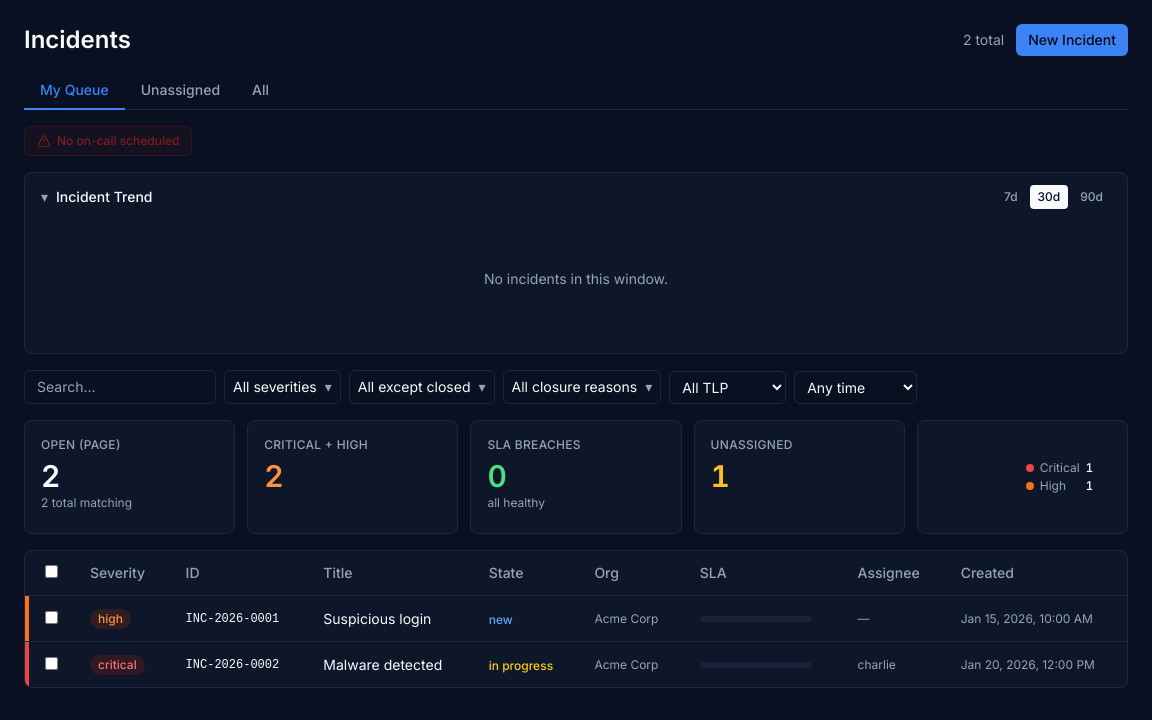
IncidentList › deselecting all checkboxes hides the toolbar
The width and height of the screenshot is (1152, 720).
Click the checkbox named "Select INC-2026-0001".
click(52, 617)  # box [45,610,58,624]
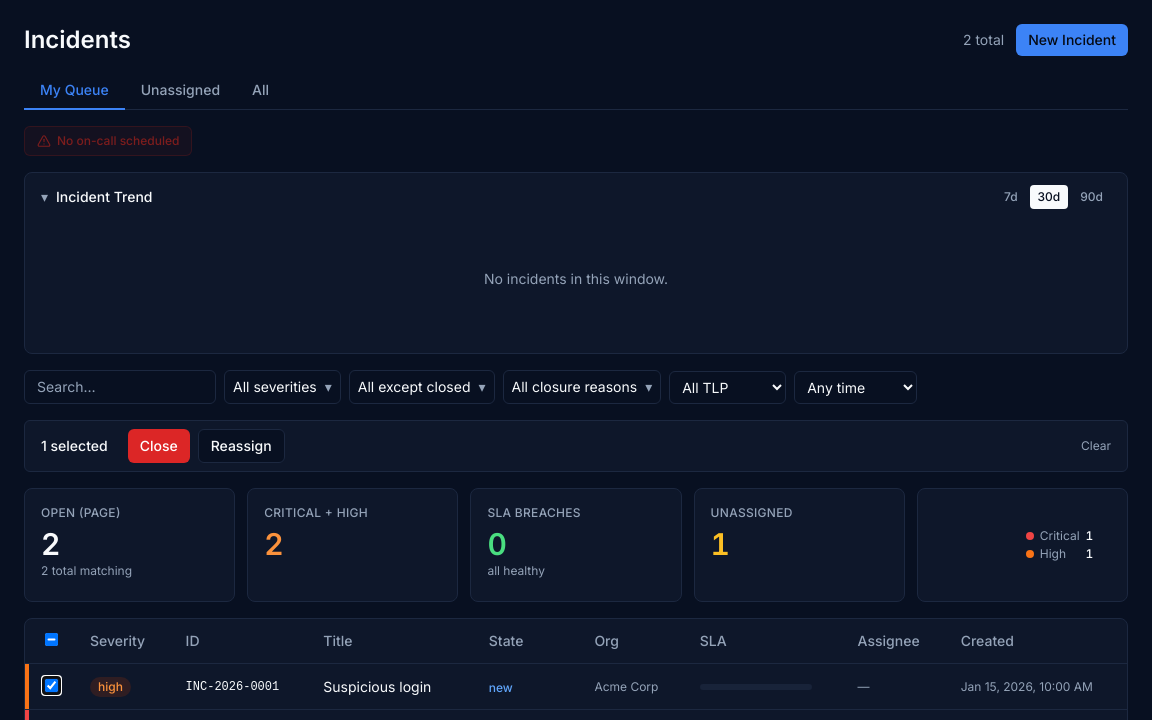
expect the text "1 selected" is shown: met, box [41,436,108,456]
Click the checkbox named "Select INC-2026-0001".
click(52, 685)  # box [45,678,58,692]
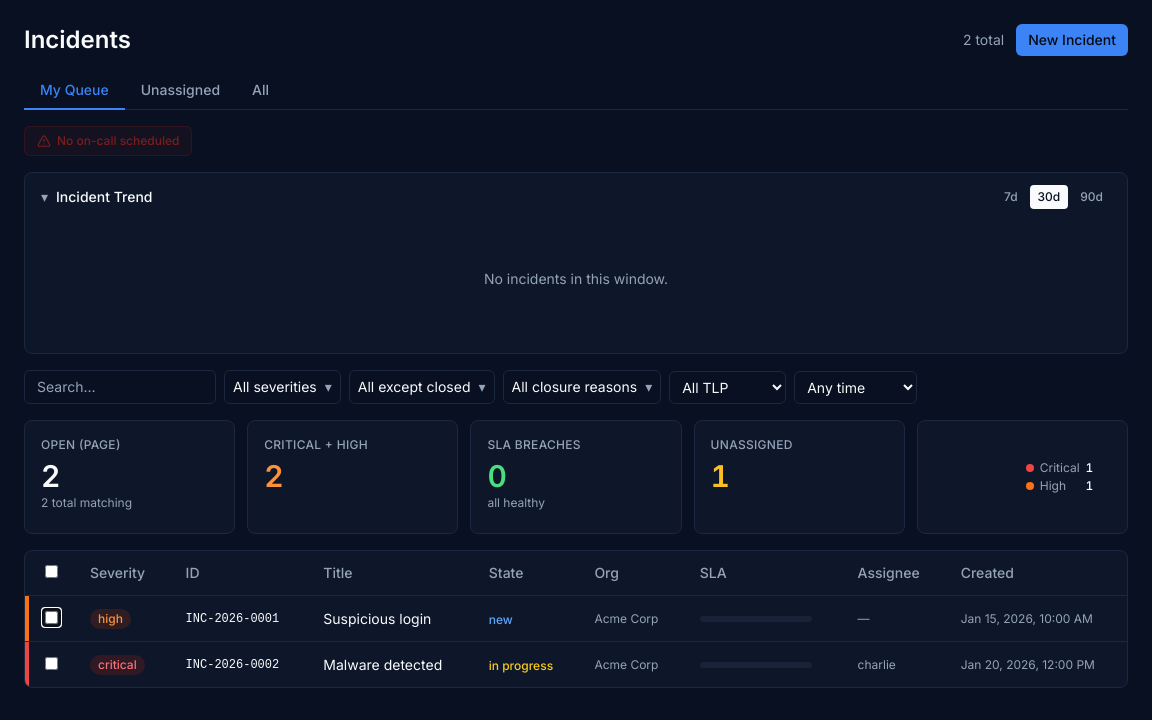
expect the text "1 selected" is gone: met
